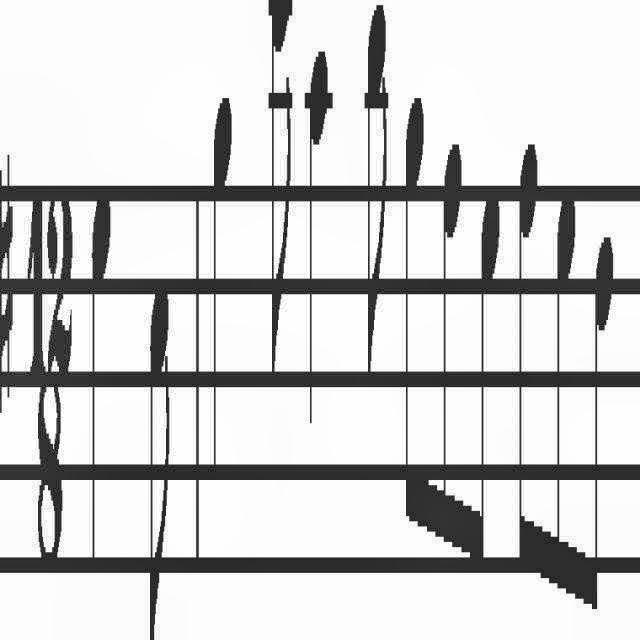Diez: (0, 134, 22, 418)
Eighth-note: (586, 189, 622, 611), (516, 97, 544, 636), (433, 103, 463, 582), (399, 62, 425, 610), (262, 0, 296, 388), (550, 160, 578, 628), (140, 263, 173, 640), (359, 0, 389, 408), (475, 160, 501, 610)
Quarter-note: (200, 6, 232, 518), (302, 39, 334, 401), (87, 184, 117, 556)
